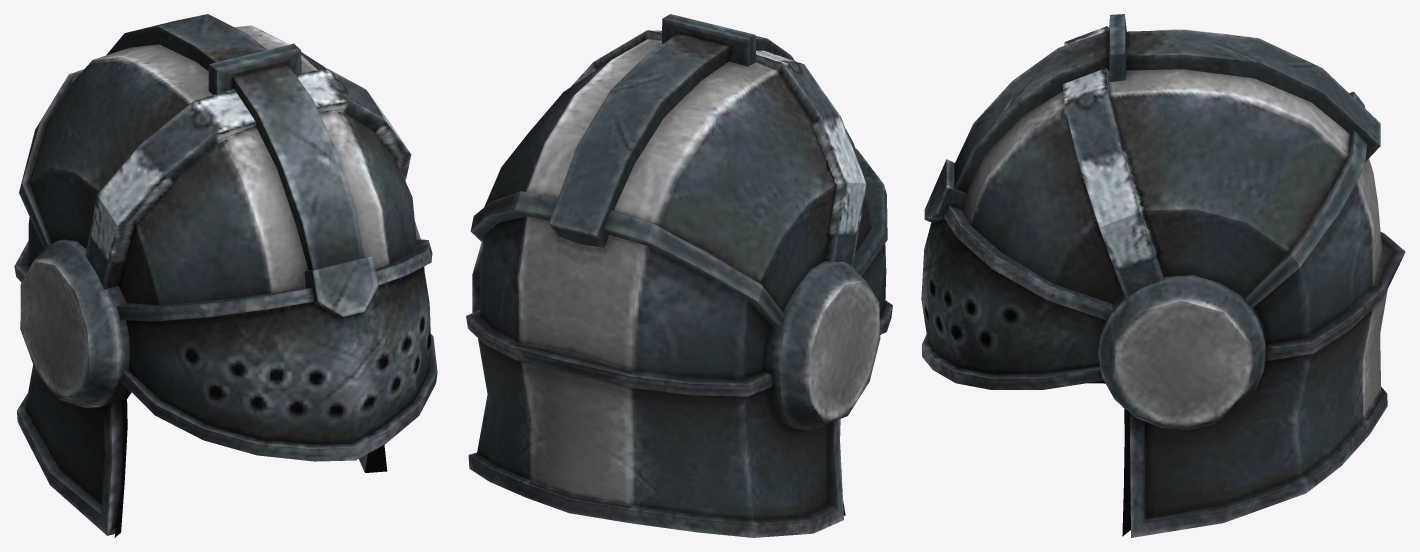
The model's file is Helmet2.fbx.
3 renders of one model, left to right at view 1: azimuth 30°, elevation 25°; view 2: azimuth 150°, elevation 25°; view 3: azimuth 270°, elevation 25°, orthographic. The views are drawn at different scales.
Parts seen in each view (by area): view 1: Object.001; view 2: Object.001; view 3: Object.001.
Part boxes in pixels (<box>): Object.001: <box>14,14,437,537</box>; Object.001: <box>466,14,892,537</box>; Object.001: <box>921,14,1405,537</box>.
Size of the model in its own units: 20.37 by 26.06 by 26.03.
